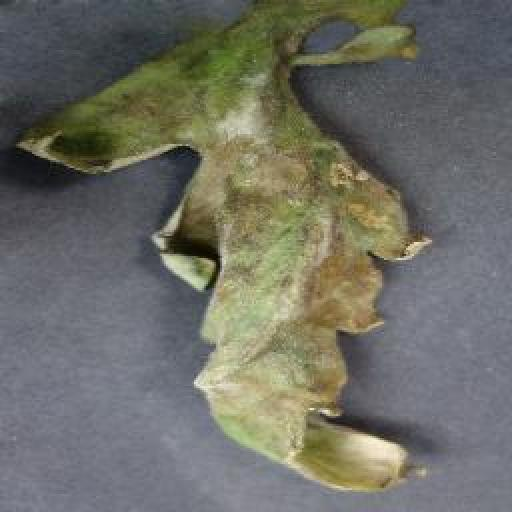disease_tomato: (13, 0, 451, 494)
